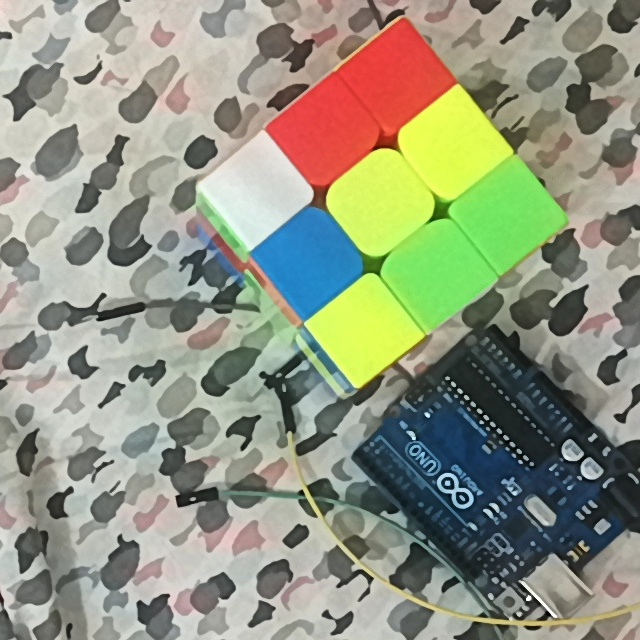tile: (476, 184, 536, 246), (353, 170, 412, 233), (368, 46, 427, 108), (410, 243, 467, 305), (421, 116, 480, 175), (280, 230, 336, 292), (298, 100, 353, 163), (335, 301, 393, 359), (227, 162, 284, 221)
